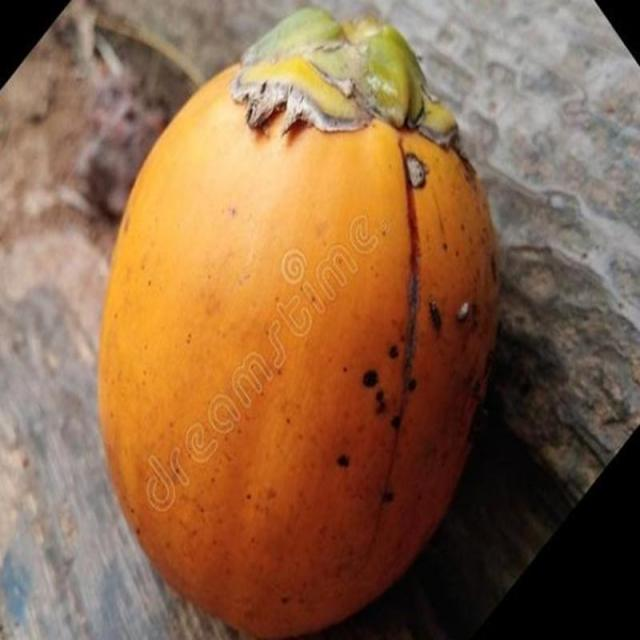good: (95, 9, 504, 639)
